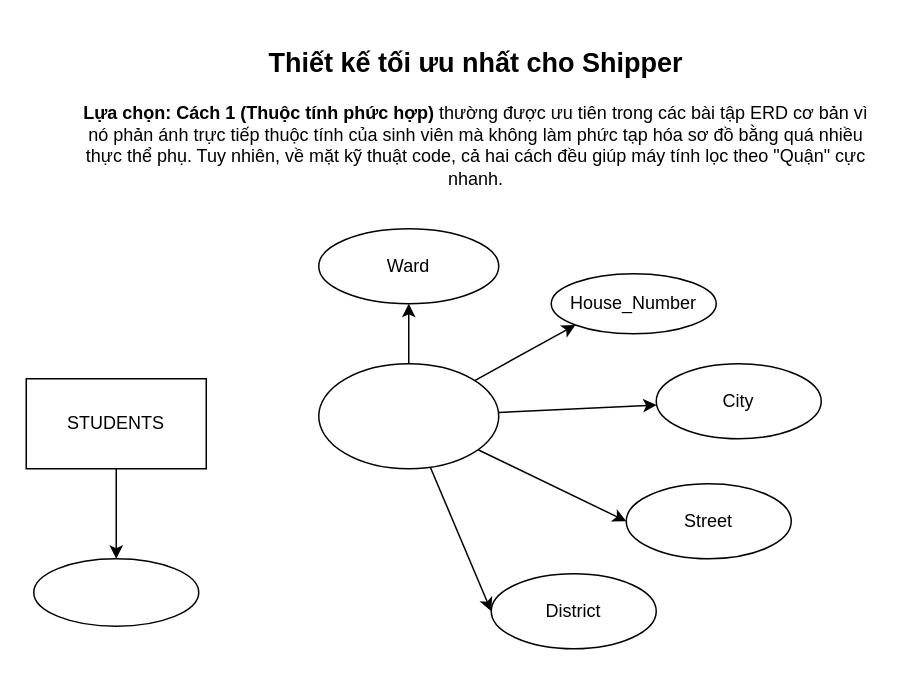
This 908x675 diagram has some shape labels left out. The shapes that lost their labels are listed below. From the top down, each one's box as (x1, y1, x2, y2) in pixels, then its label:
(317, 362, 499, 469): ADDRESS
(32, 557, 199, 626): StudentID
